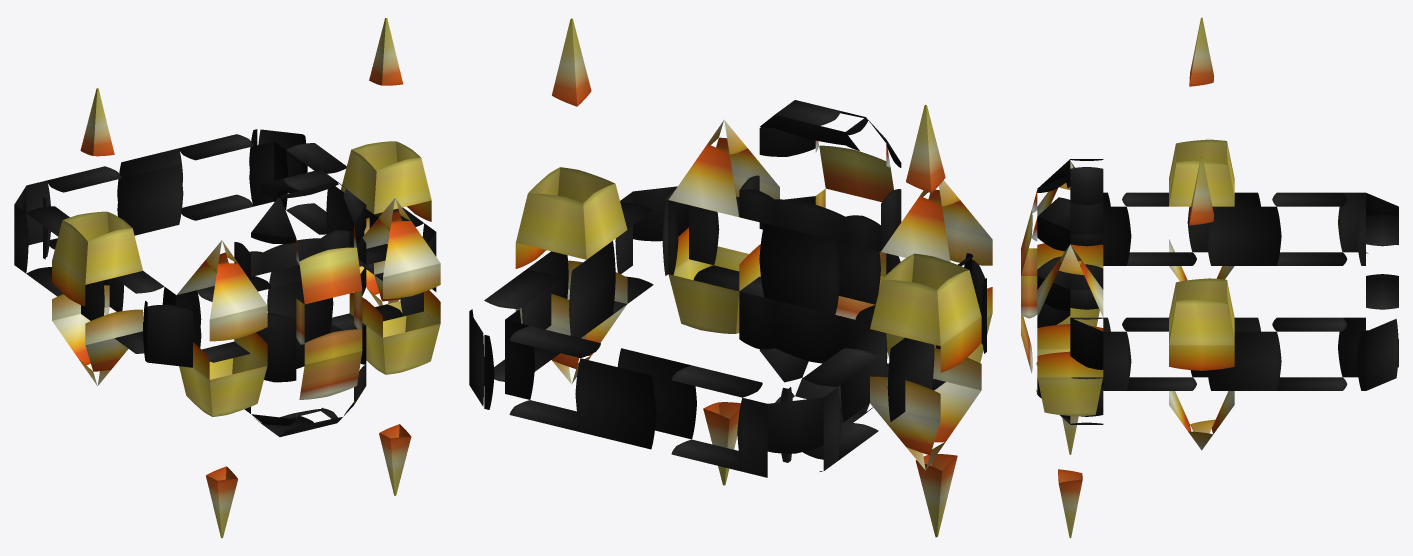
The model's file is fire_resistance_bracelet.obj.
3 renders of one model, left to right at view 1: azimuth 30°, elevation 25°; view 2: azimuth 150°, elevation 25°; view 3: azimuth 270°, elevation 25°, orthographic. The views are drawn at different scales.
Parts seen in each view (by area): view 1: BRACELET_DECO_EMBERGLOW_Cube.026, BRACELET_BASE_INFERNALIRON_Cube.025; view 2: BRACELET_DECO_EMBERGLOW_Cube.026, BRACELET_BASE_INFERNALIRON_Cube.025; view 3: BRACELET_DECO_EMBERGLOW_Cube.026, BRACELET_BASE_INFERNALIRON_Cube.025.
Part boxes in pixels (x1=…): BRACELET_DECO_EMBERGLOW_Cube.026: x1=52, y1=18, x2=440, y2=538; BRACELET_BASE_INFERNALIRON_Cube.025: x1=14, y1=129, x2=436, y2=367; BRACELET_DECO_EMBERGLOW_Cube.026: x1=515, y1=18, x2=992, y2=537; BRACELET_BASE_INFERNALIRON_Cube.025: x1=469, y1=186, x2=986, y2=477; BRACELET_DECO_EMBERGLOW_Cube.026: x1=1021, y1=17, x2=1234, y2=538; BRACELET_BASE_INFERNALIRON_Cube.025: x1=1070, y1=192, x2=1398, y2=390.
Size of the model in its own units: 0.375 by 0.4375 by 0.3594.
